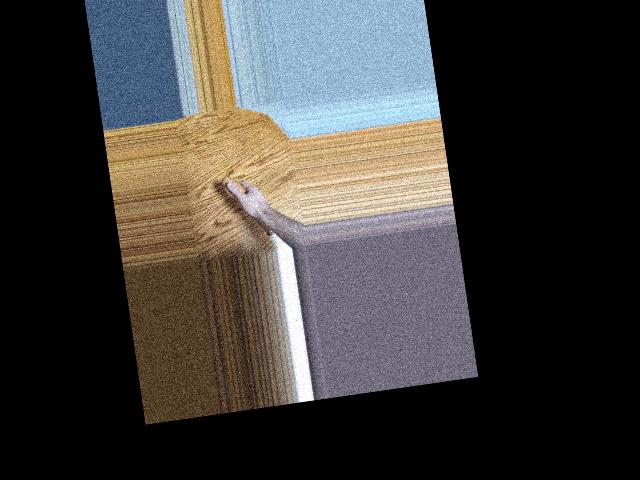sweet_potato: (221, 169, 276, 243)
